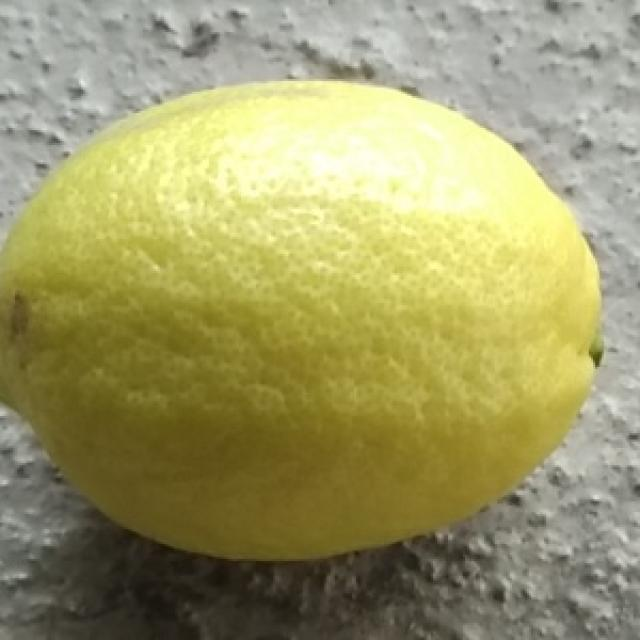Ripe: (7, 77, 610, 566)
